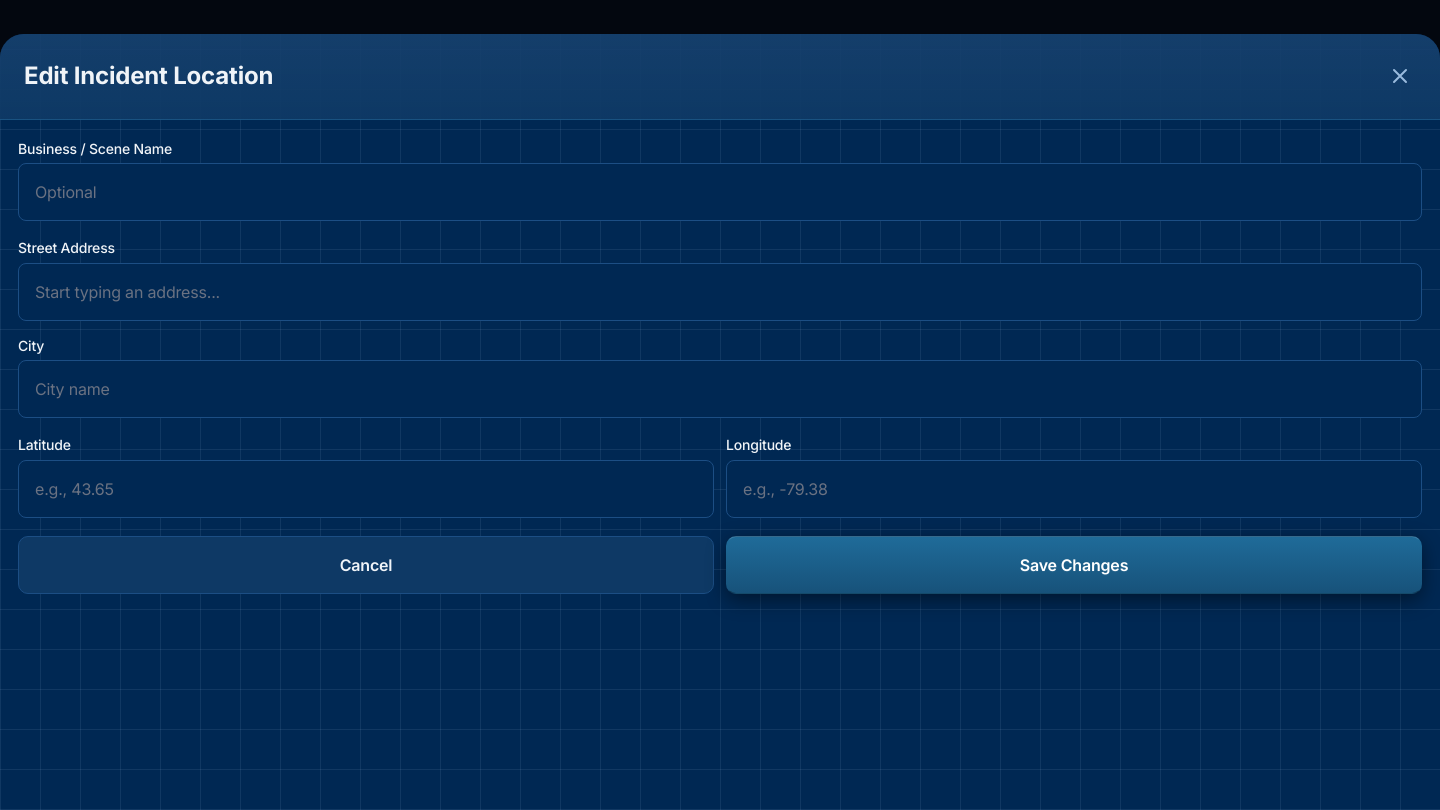
Test case: EditIncidentLocationModal — reverse-geocode banner › raises the banner when the lookup finds nothing, keeping the entered coordinates
Type "43.5" into the field named "Latitude" at (366, 489), box [18, 460, 714, 518]
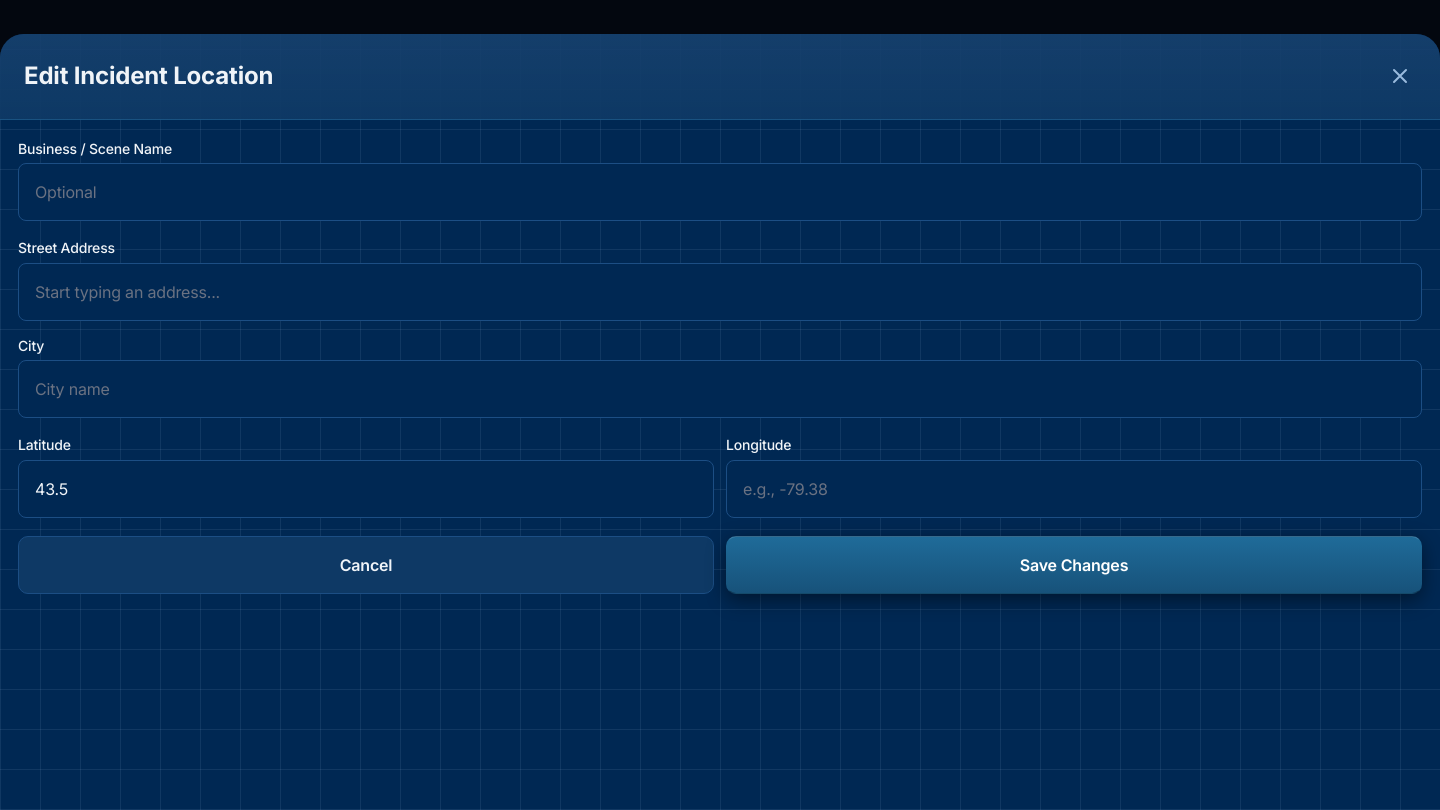
Type "-79.5" into the field named "Longitude" at (1074, 489), box [726, 460, 1422, 518]
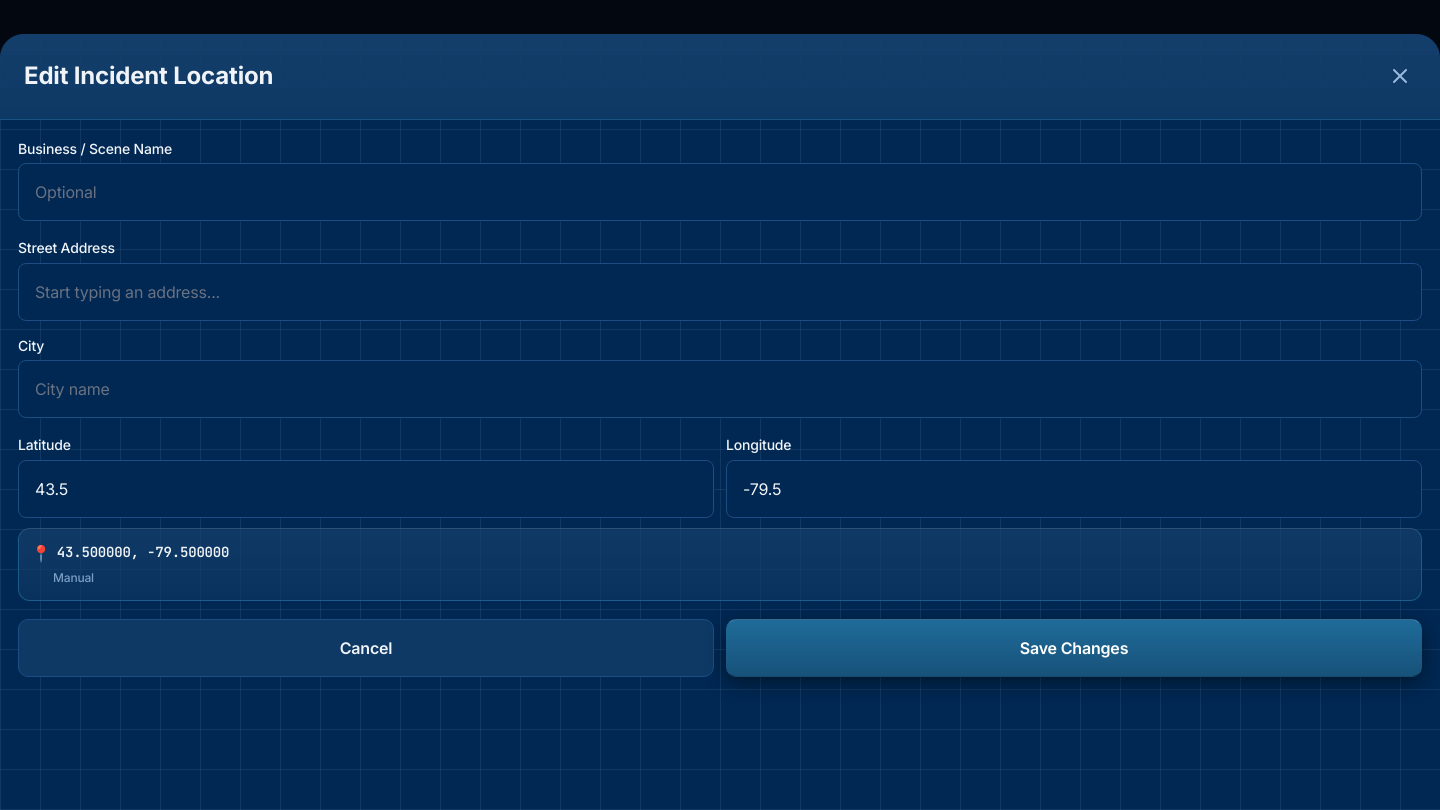
Leave the field named "Longitude", box [726, 460, 1422, 518]
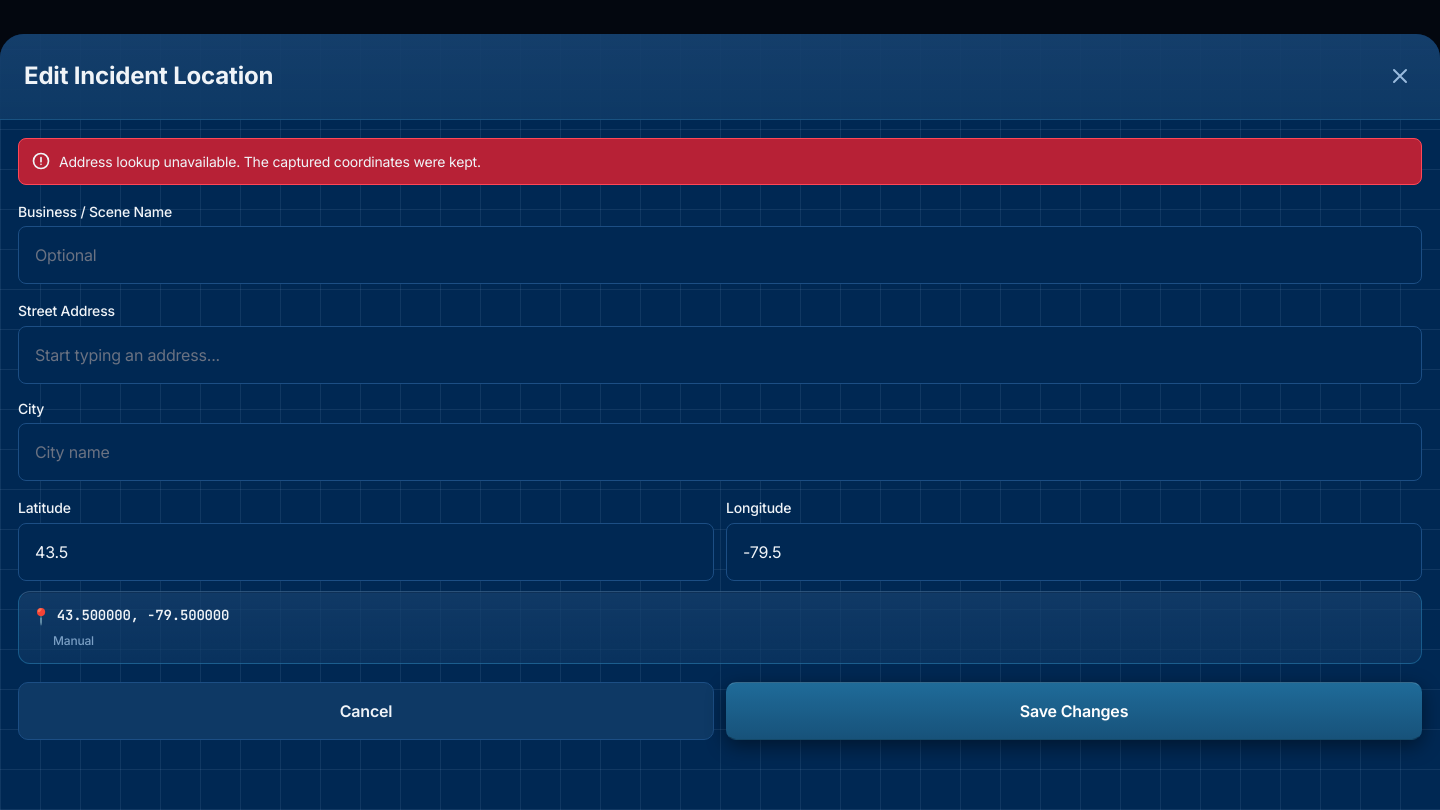
Expected: the text with test id "coordinate-display-coords" reads "43.500000, -79.500000", [57, 606, 229, 624]
Expected: the message with test id "edit-incident-error" reads "Address lookup unavailable. The captured coordinates were kept.", [59, 153, 481, 170]
